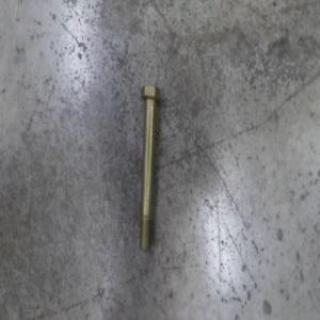Bolttrack_idkeyframe: (137, 80, 161, 256)
